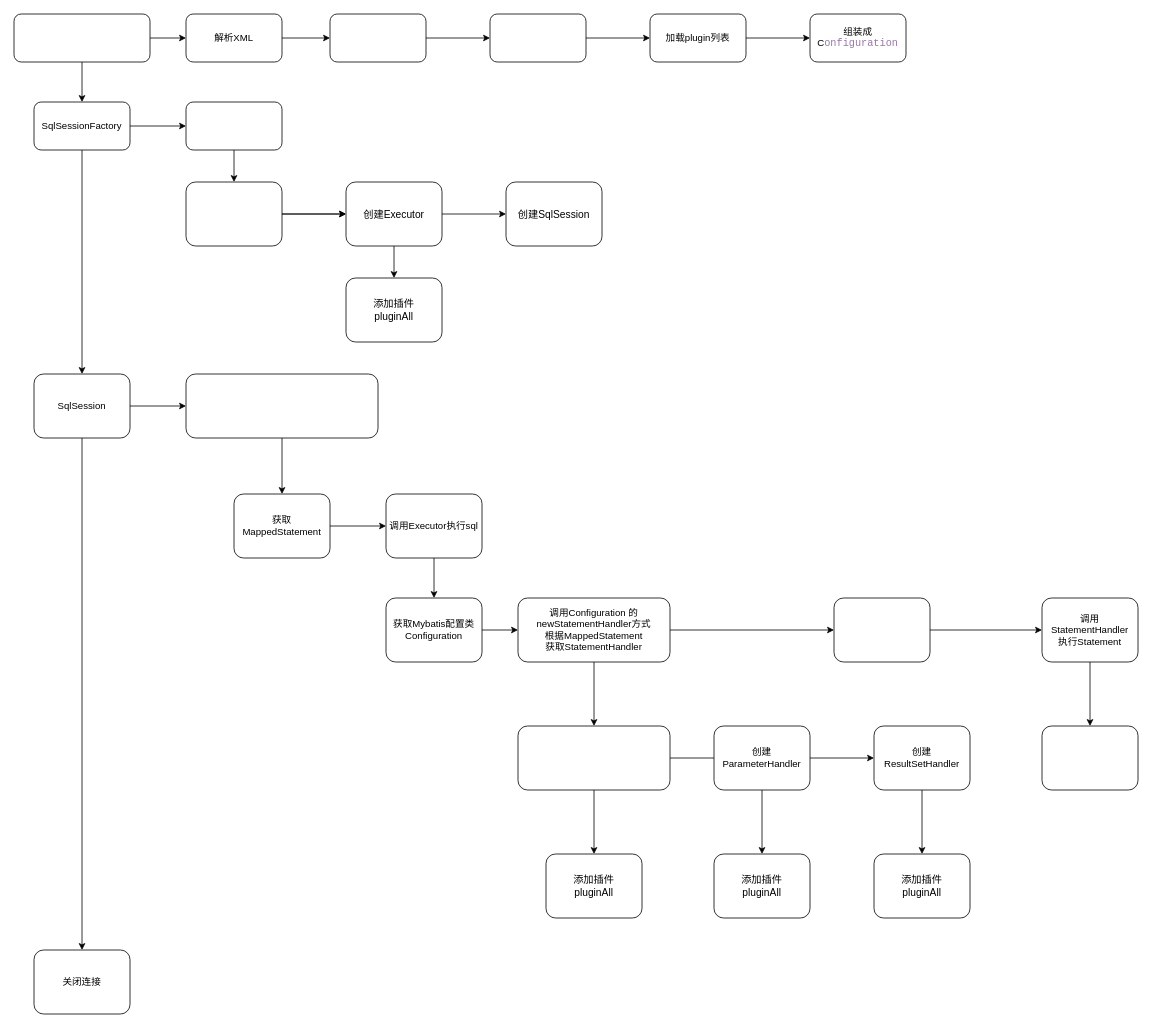
The diagram is 1152 pixels wide and 1028 high, and some of its shapes have lost their labels. Each missing label, with the box of its shape:
openSession: (185, 101, 282, 150)
SqlSessionFactoryBuilder: (13, 13, 150, 62)
创建事务: (185, 181, 282, 246)
加载DataSource: (329, 13, 426, 62)
加载mapper列表: (489, 13, 586, 62)
提供 代理mapper的方法 （调用Configuration.<T>getMapper）: (185, 373, 378, 438)
根据RoutingStatementHandler 创建StatementHandler: (517, 725, 670, 790)
编译表达式prepareStatement 获取Statement: (833, 597, 930, 662)
调用ResultHandler 处理返回值: (1041, 725, 1138, 790)
